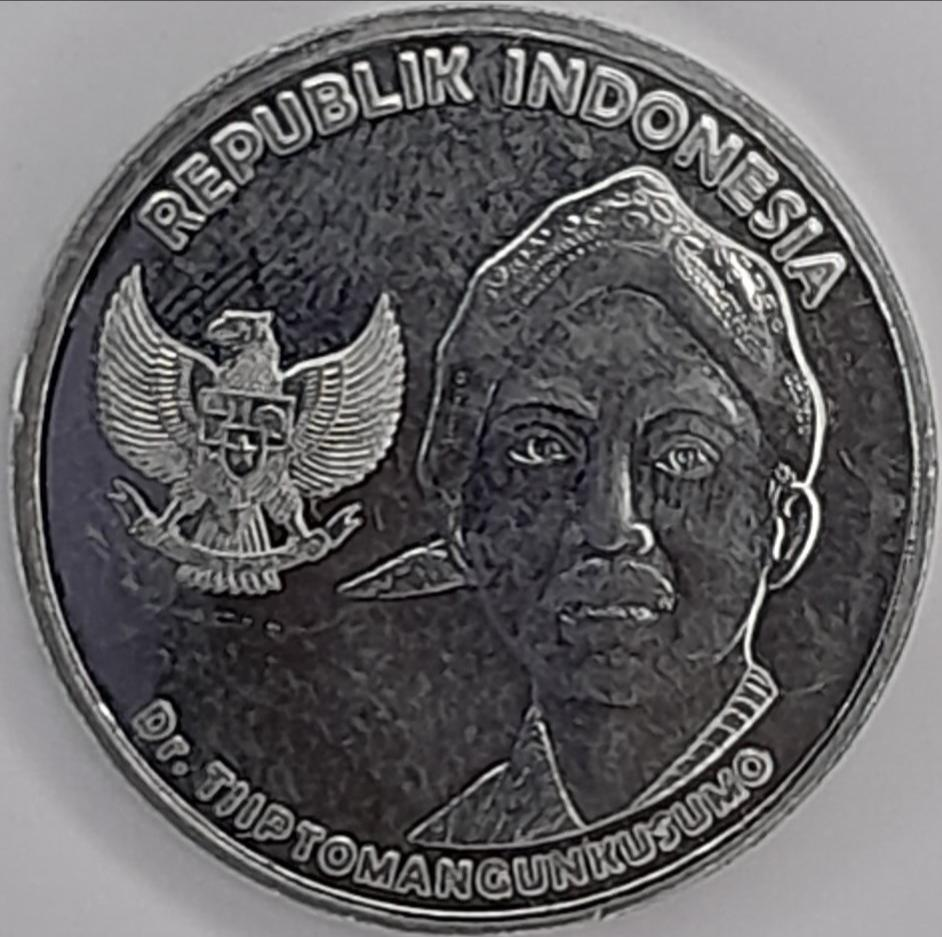coin_200_e2016: (0, 16, 942, 937)
